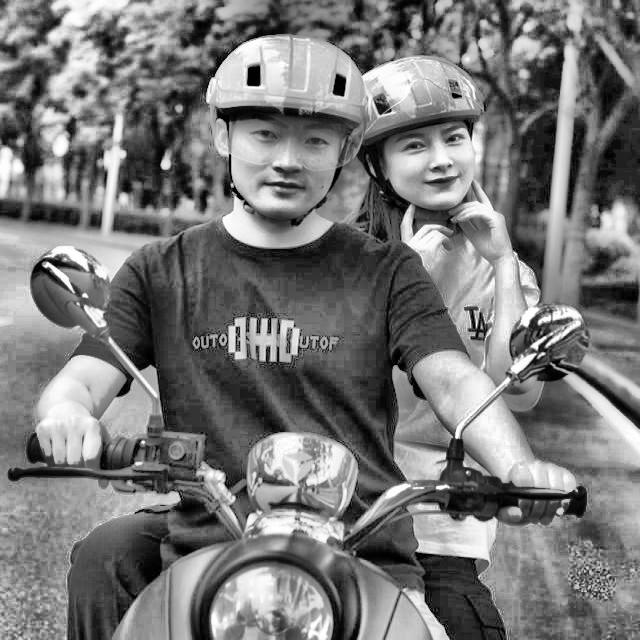Helmet: (192, 16, 376, 253), (357, 32, 505, 245)
